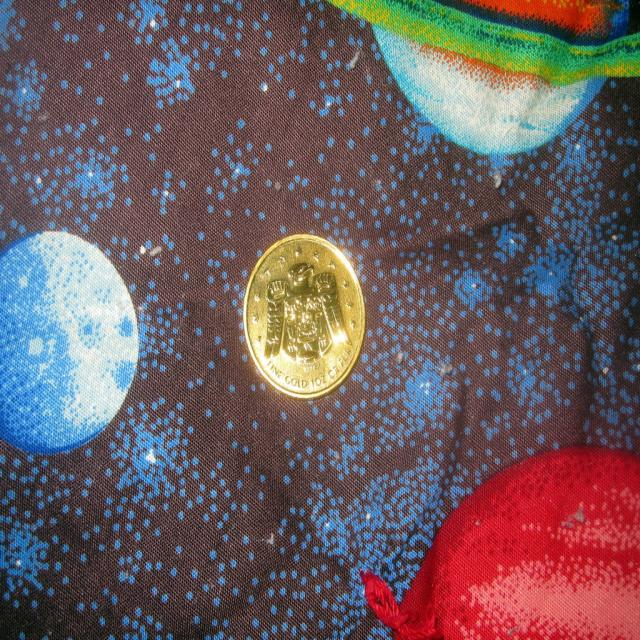Coin: (241, 232, 365, 400)
